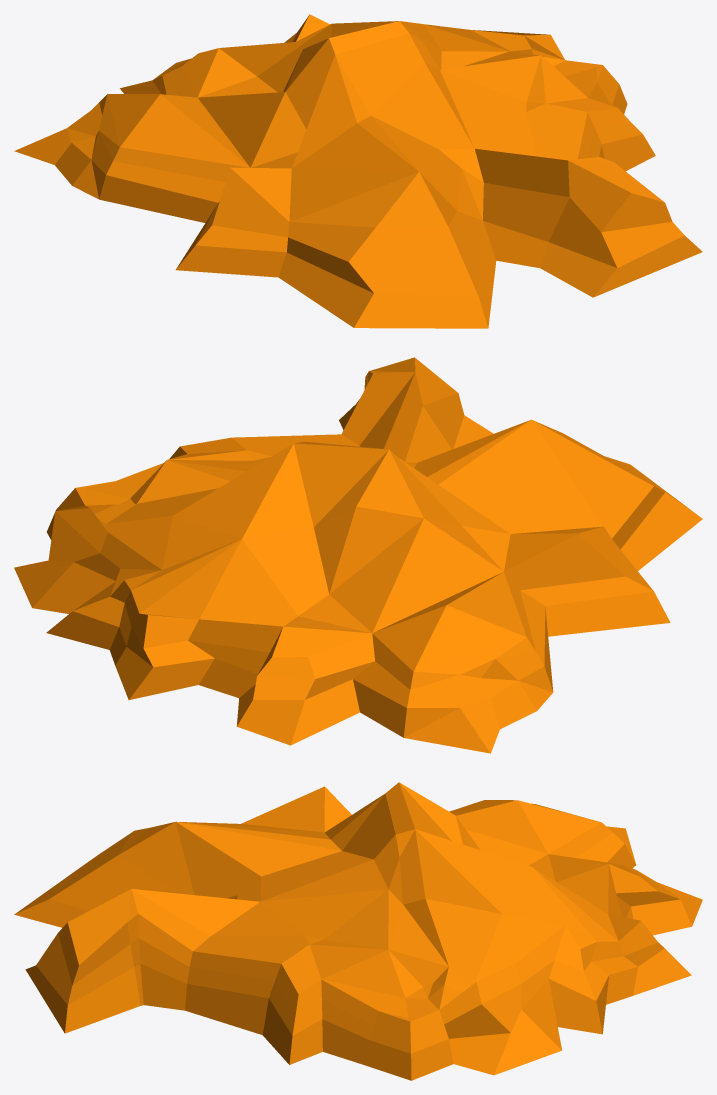
The model's file is Rubble.fbx.
3 views of the same model, one above another, from view 1: azimuth 30°, elevation 25°; view 2: azimuth 150°, elevation 25°; view 3: azimuth 270°, elevation 25° (orthographic). The views are drawn at different scales.
Visible parts, largest first — view 1: Rubble2; view 2: Rubble2; view 3: Rubble2.
Part boxes in pixels (<box>): Rubble2: <box>14,14,702,328</box>; Rubble2: <box>14,357,702,753</box>; Rubble2: <box>14,782,702,1080</box>.
Bounding box in the file's own units: 10.59 × 2.88 × 12.19.
